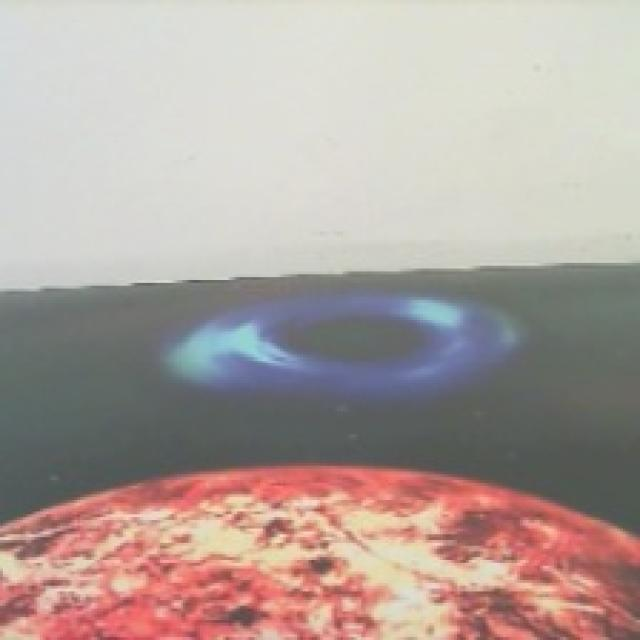Black Hole: (165, 290, 530, 398)
Sun: (0, 460, 640, 640)
